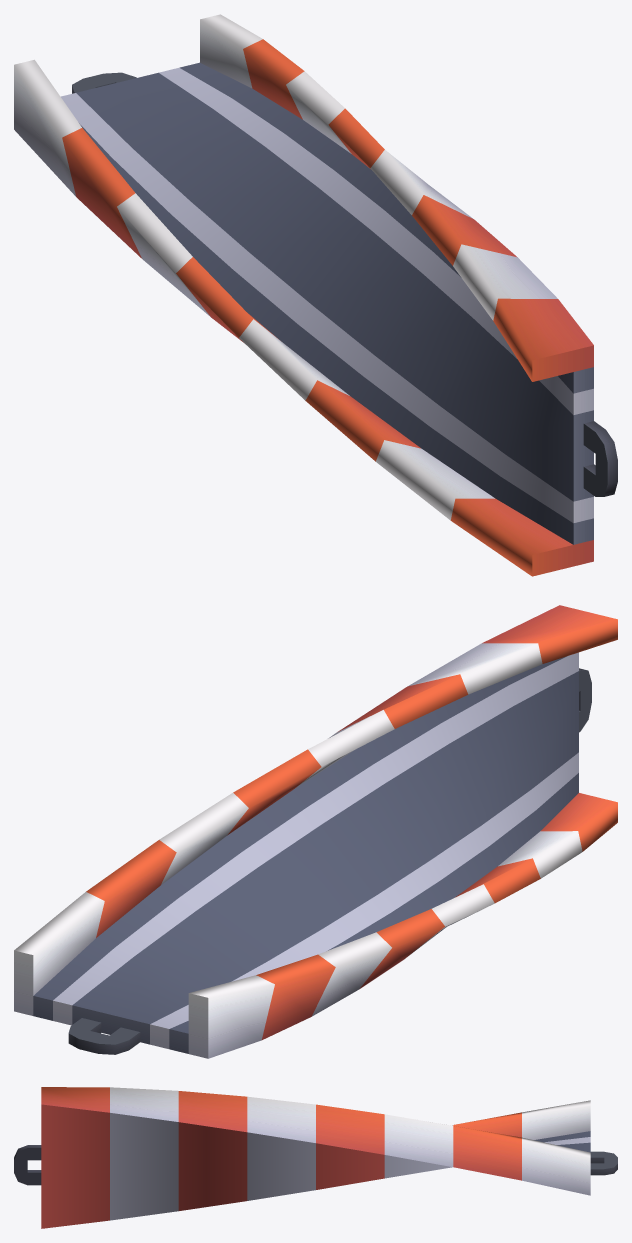
Rendered from track-road-narrow-straight-skew-right-side.glb.
3 renders of one model, top to bottom at view 1: azimuth 30°, elevation 25°; view 2: azimuth 150°, elevation 25°; view 3: azimuth 270°, elevation 25°, orthographic. The views are drawn at different scales.
Visible parts, largest first — view 1: track-road-narrow-straight-skew-right-side; view 2: track-road-narrow-straight-skew-right-side; view 3: track-road-narrow-straight-skew-right-side.
Boxes of the visible parts, x1,y1,x2,y2 form: track-road-narrow-straight-skew-right-side: (14,14,617,576); track-road-narrow-straight-skew-right-side: (14,605,617,1058); track-road-narrow-straight-skew-right-side: (14,1087,617,1228).
Bounding box in the file's own units: 1.08 × 1.08 × 4.4.
1 material, 1 textured.
